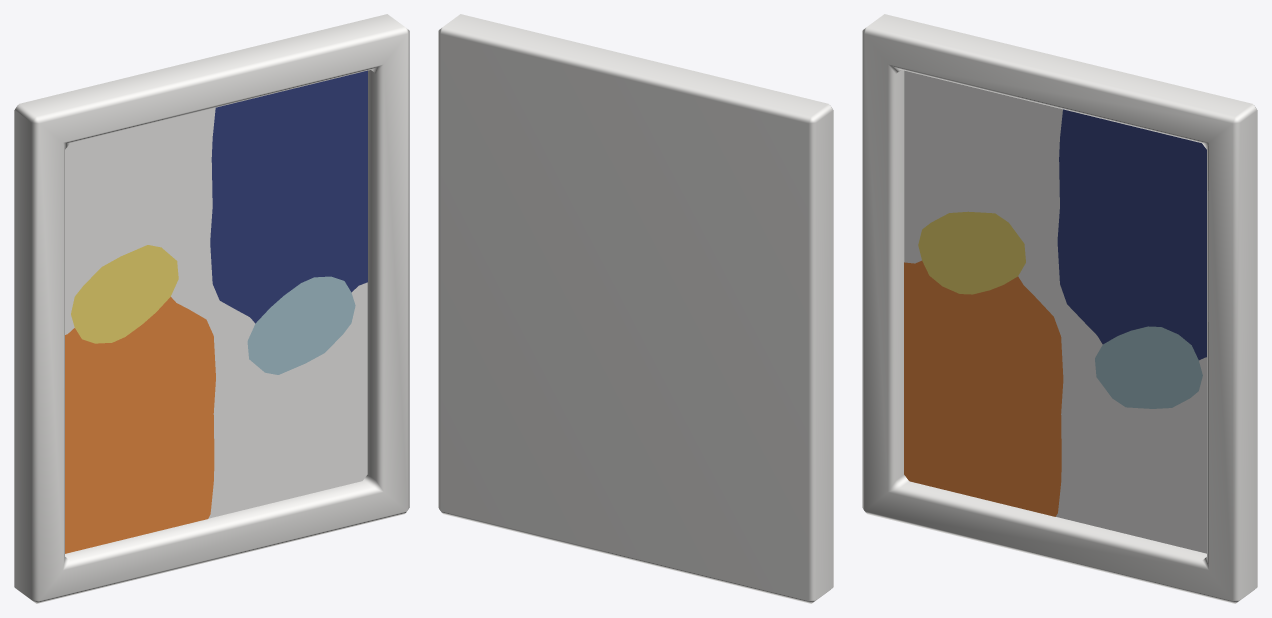
Rendered from Frame_3.glb.
The picture shows the model from 3 angles, left to right: view 1: azimuth 30°, elevation 25°; view 2: azimuth 150°, elevation 25°; view 3: azimuth 330°, elevation 25°; orthographic projection.
Visible parts, largest first — view 1: Painting_20; view 2: Painting_20; view 3: Painting_20.
Boxes of the visible parts, <box> form: Painting_20: <box>14,14,409,603</box>; Painting_20: <box>438,14,833,603</box>; Painting_20: <box>862,14,1257,603</box>.
Size of the model in its own units: 0.9811 by 1.21 by 0.1034.
Materials: 1 (1 with a texture image).
